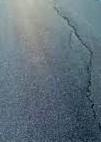pothole: (53, 0, 101, 131)
